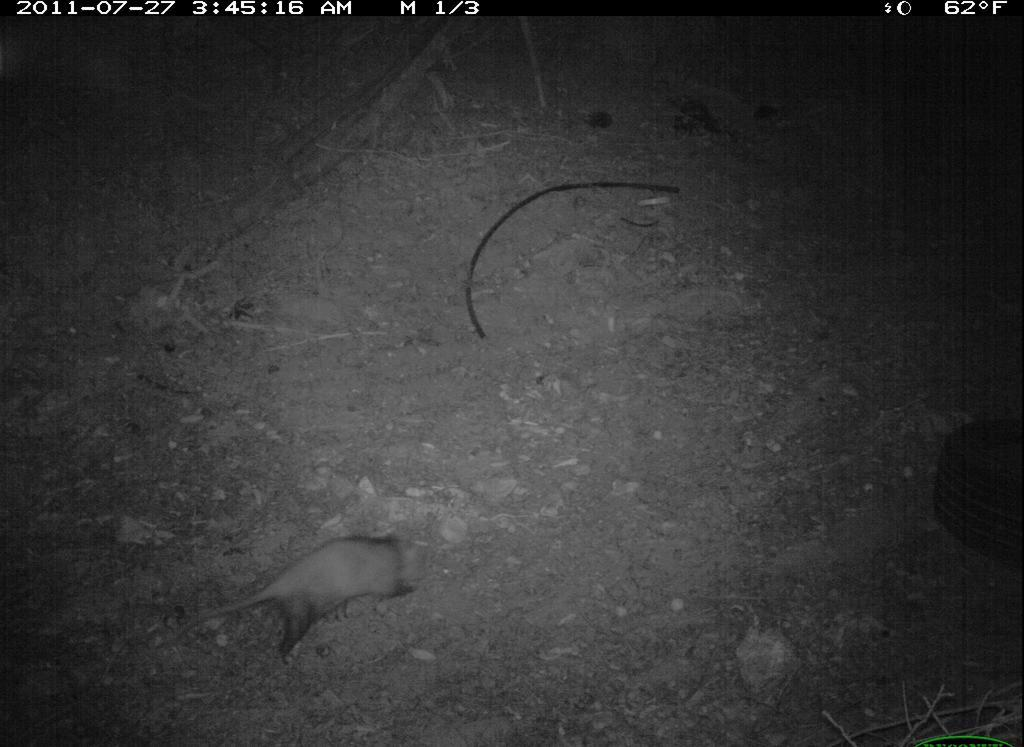opossum: (175, 510, 443, 669)
